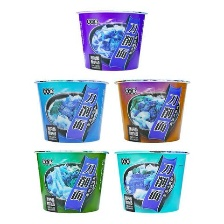paper_cup: (110, 146, 193, 216), (112, 75, 193, 145), (72, 4, 151, 75), (31, 146, 110, 216), (32, 76, 110, 145)
